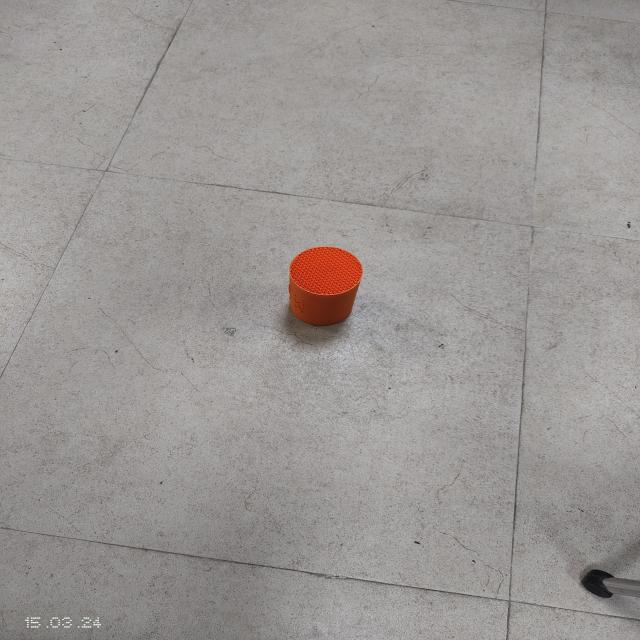Cylinder: (287, 245, 363, 326)
